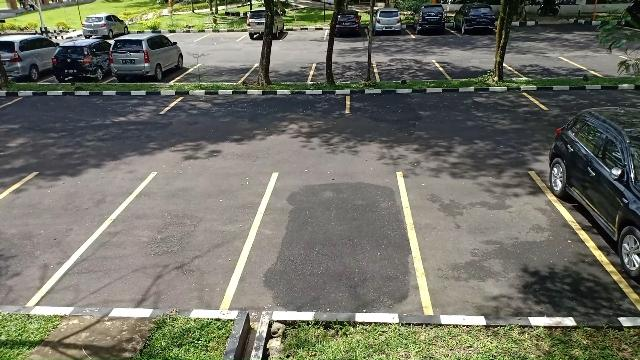empty: (83, 172, 253, 308), (251, 173, 414, 309), (416, 169, 562, 315), (0, 176, 86, 304), (347, 88, 538, 114), (0, 90, 174, 118), (174, 92, 350, 116), (246, 62, 314, 86), (440, 58, 514, 80), (512, 58, 582, 80), (184, 62, 248, 86), (376, 58, 440, 82), (312, 62, 376, 82), (200, 26, 244, 44), (286, 23, 326, 41)
occupied: (107, 50, 185, 84), (50, 44, 110, 84), (451, 15, 497, 37), (410, 16, 450, 38), (368, 18, 410, 38), (326, 19, 366, 39), (243, 24, 284, 42)
